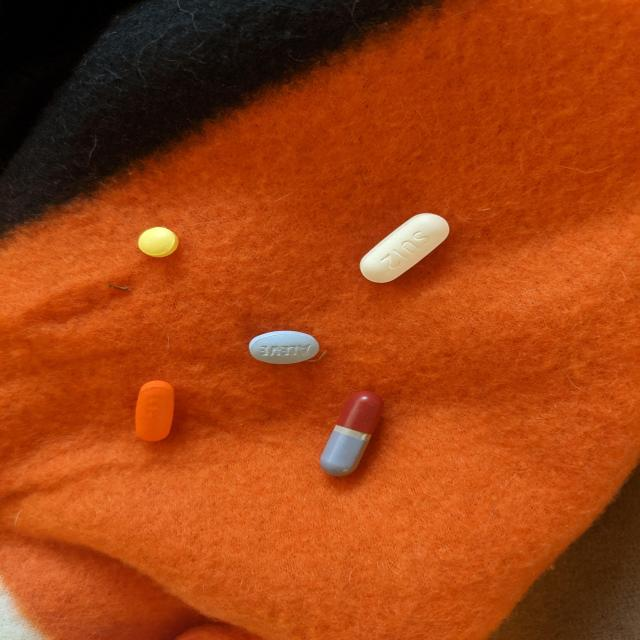non-organic waste: (357, 212, 451, 285), (318, 390, 385, 478), (133, 379, 176, 443), (247, 330, 320, 365), (137, 226, 180, 258)
